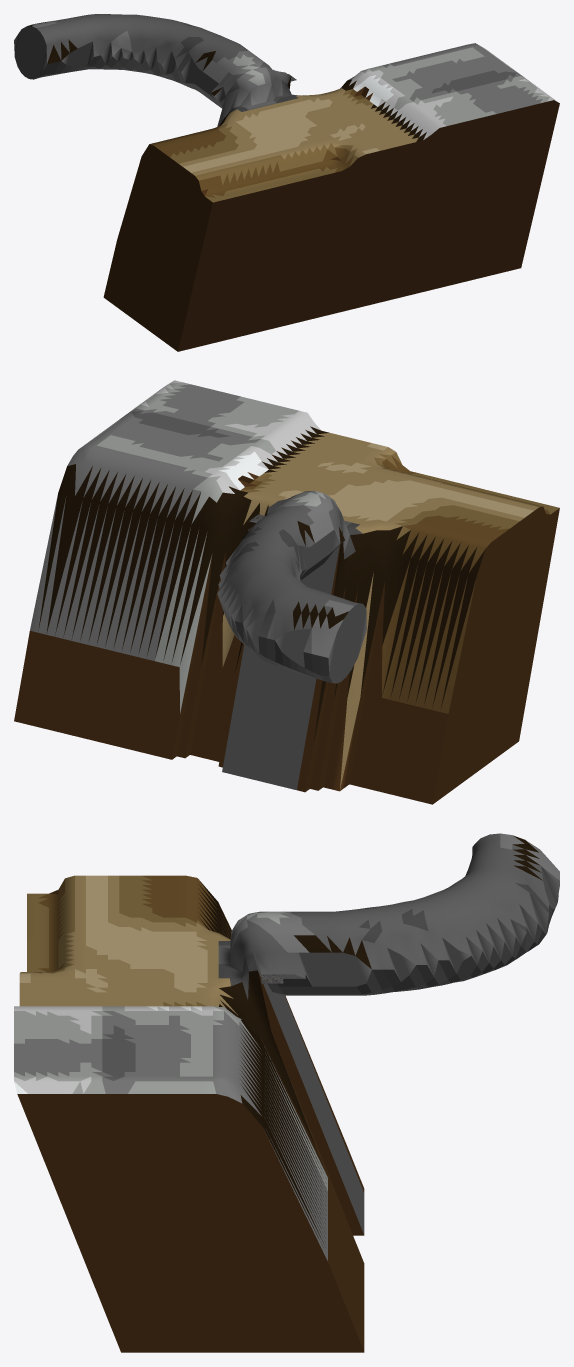
The model's file is skull_chest_t3.glb.
3 renders of one model, top to bottom at view 1: azimuth 30°, elevation 25°; view 2: azimuth 150°, elevation 25°; view 3: azimuth 270°, elevation 25°, orthographic. The views are drawn at different scales.
Parts seen in each view (by area): view 1: skull_chest_t3; view 2: skull_chest_t3; view 3: skull_chest_t3.
Part boxes in pixels (x1,y1,x2,y2): skull_chest_t3: (14, 14, 559, 351); skull_chest_t3: (14, 380, 559, 804); skull_chest_t3: (14, 833, 559, 1352).
Size of the model in its own units: 24 by 14.7 by 24.68.
